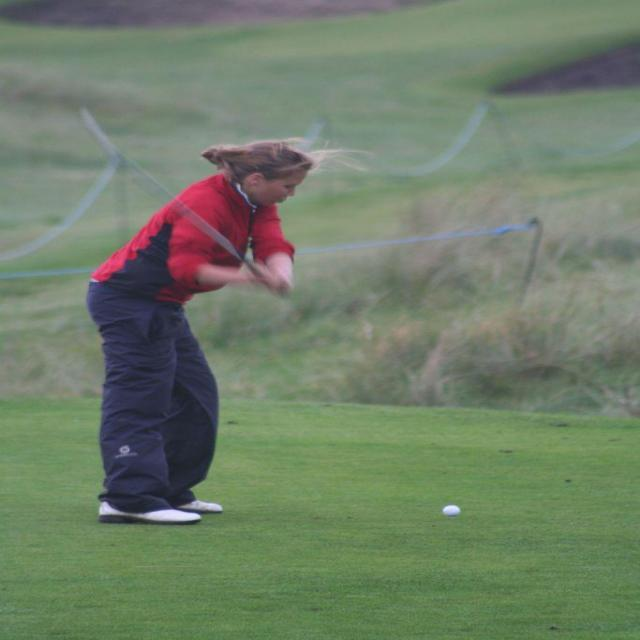GolfBall: (430, 501, 470, 519)
